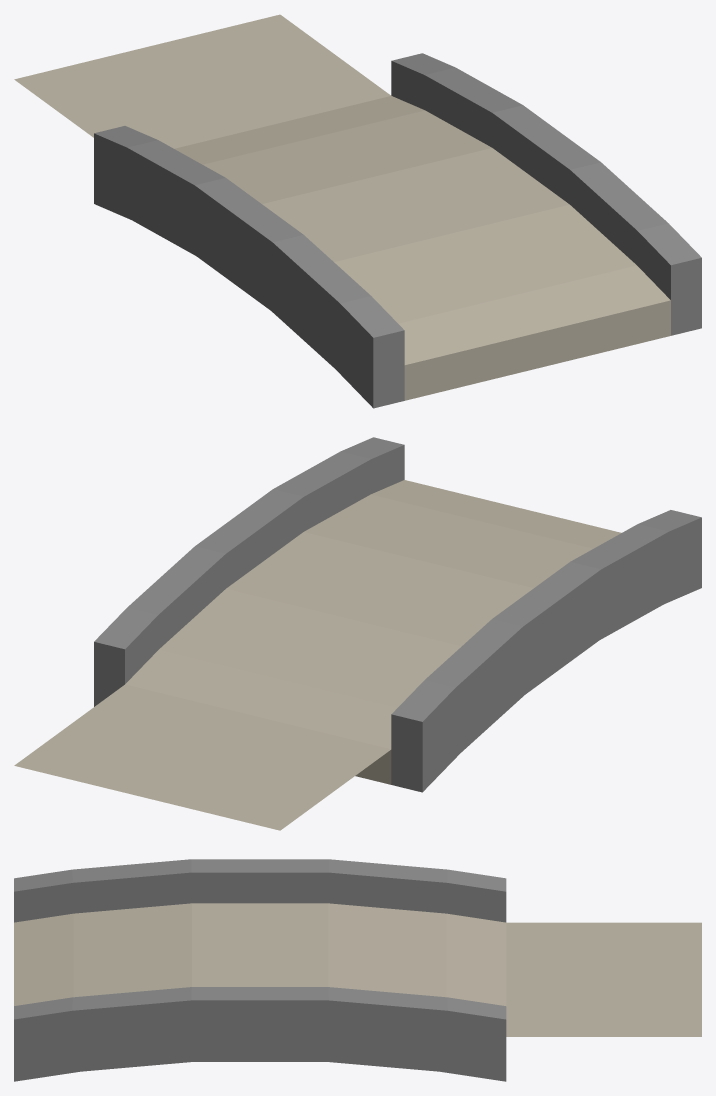
Rendered from bridge.glb.
The picture shows the model from 3 angles, top to bottom: view 1: azimuth 30°, elevation 25°; view 2: azimuth 150°, elevation 25°; view 3: azimuth 270°, elevation 25°; orthographic projection. The views are drawn at different scales.
Parts seen in each view (by area): view 1: Cube.003; view 2: Cube.003; view 3: Cube.003.
Part boxes in pixels (x1,y1,x2,y2): Cube.003: [14, 14, 701, 408]; Cube.003: [14, 437, 701, 830]; Cube.003: [14, 859, 701, 1081].
Bounding box in the file's own units: 24.26 × 6.52 × 49.96.
